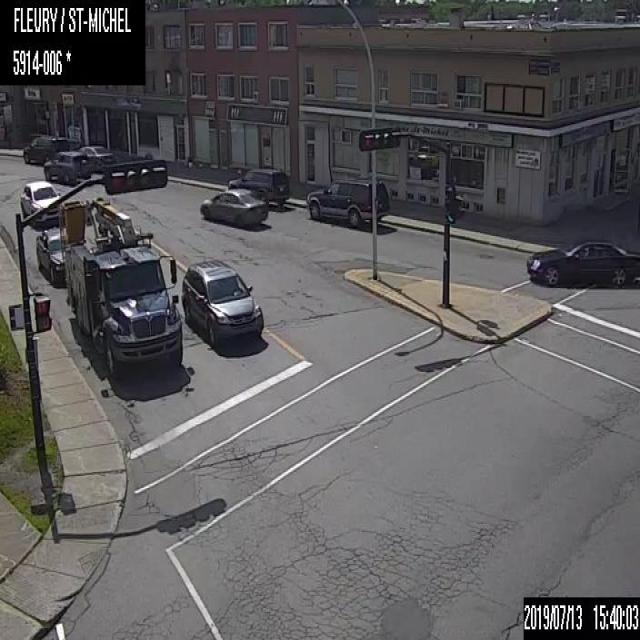vehicle: (57, 194, 184, 377), (178, 252, 263, 347), (526, 236, 639, 287), (305, 177, 392, 227), (198, 182, 268, 224), (228, 162, 289, 210), (18, 177, 63, 221), (34, 226, 65, 285), (42, 148, 87, 188), (23, 133, 71, 166), (74, 141, 112, 169)
